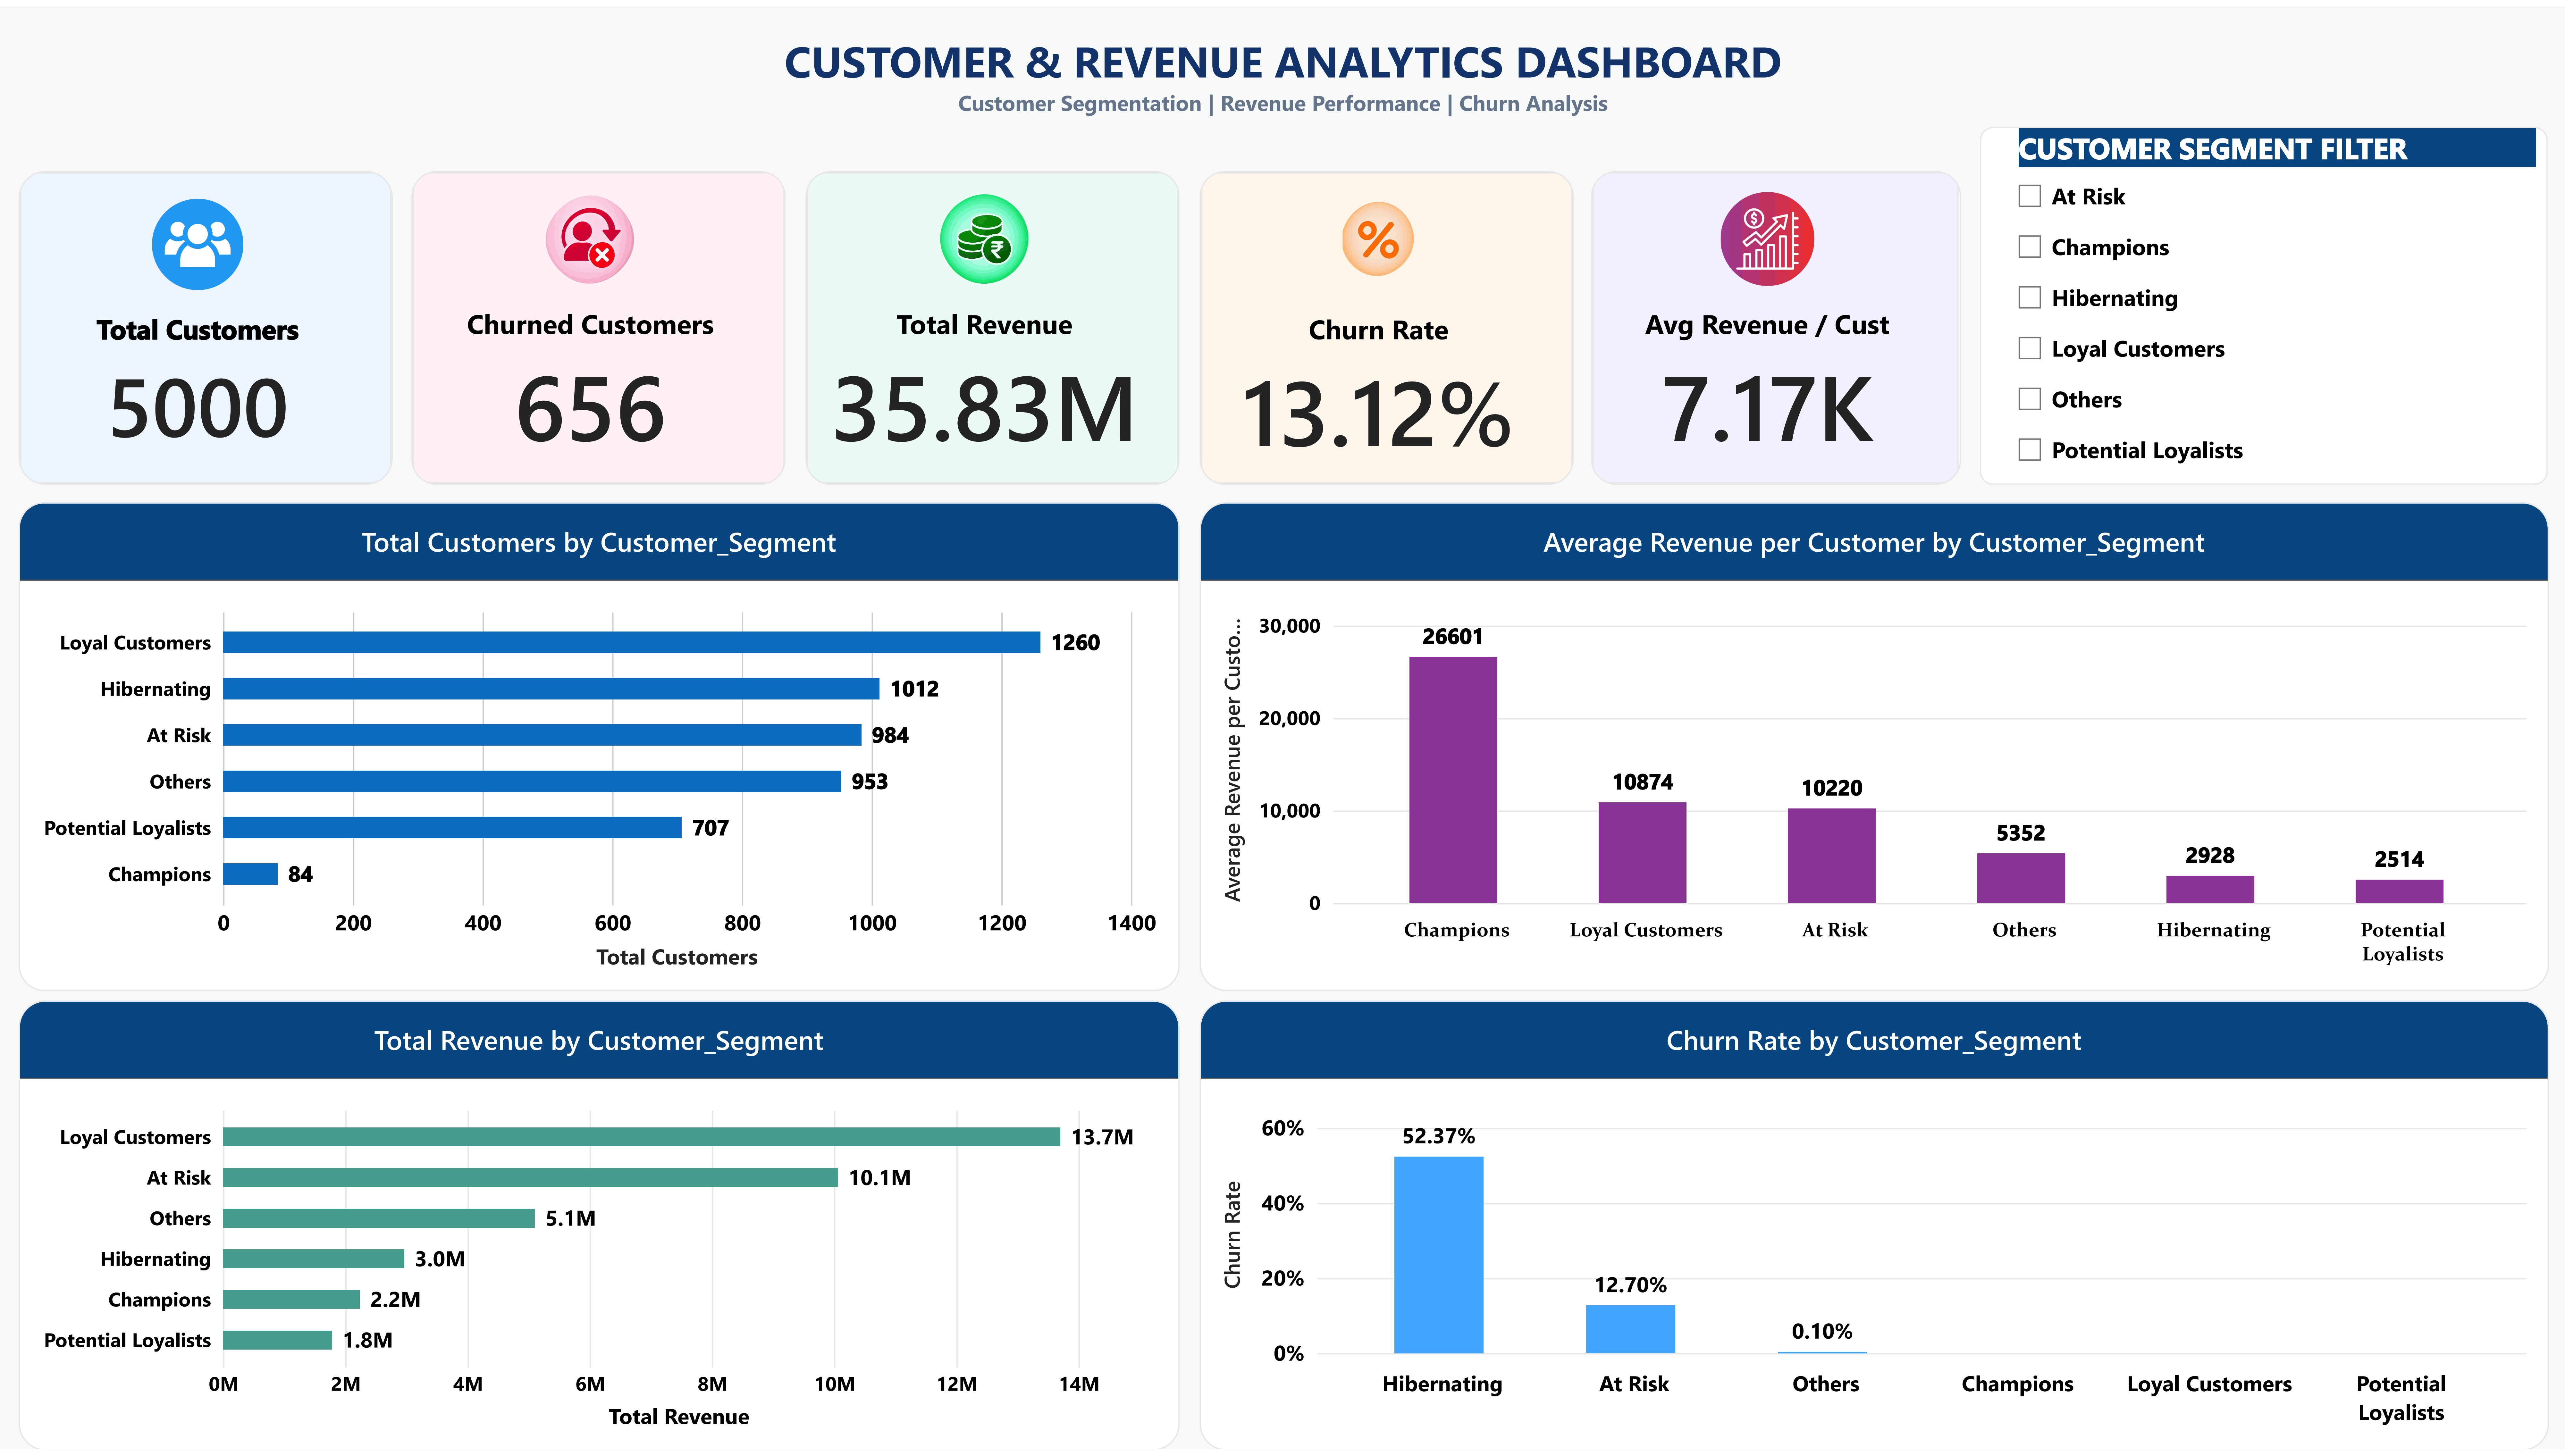

This screenshot's page, from the dashboard's own definition file:
{"tool":"powerbi","page":{"name":"Page 1","canvas":[1920,1080],"ordinal":0},"visuals":[{"type":"cardVisual","fields":{"Data":["rfm_customer_analysis.Total Customers"]},"box":[14.5,123.1,280.5,235.3],"z":0},{"type":"cardVisual","fields":{"Data":["rfm_customer_analysis.Total Revenue"]},"box":[602.6,123.1,280.5,235.3],"z":1000},{"type":"cardVisual","fields":{"Data":["rfm_customer_analysis.Churn Rate"]},"box":[897.6,123.1,280.5,235.3],"z":2000},{"type":"cardVisual","fields":{"Data":["rfm_customer_analysis.Average Revenue per Customer"]},"box":[1190.8,123.1,276.9,235.3],"z":3000},{"type":"cardVisual","fields":{"Data":["rfm_customer_analysis.Churned Customers"]},"box":[307.6,123.1,280.5,235.3],"z":4000},{"type":"clusteredBarChart","fields":{"Category":["rfm_customer_analysis.Customer_Segment"],"Y":["rfm_customer_analysis.Total Customers"]},"box":[14.5,371,868.6,365.6],"z":5000},{"type":"clusteredColumnChart","fields":{"Category":["rfm_customer_analysis.Customer_Segment"],"Y":["rfm_customer_analysis.Churn Rate"]},"box":[897.6,743.8,1009.8,336.6],"z":6000},{"type":"clusteredBarChart","fields":{"Category":["rfm_customer_analysis.Customer_Segment"],"Y":["rfm_customer_analysis.Total Revenue"]},"box":[14.5,743.8,868.6,336.6],"z":7000},{"type":"clusteredColumnChart","fields":{"Category":["rfm_customer_analysis.Customer_Segment"],"Y":["rfm_customer_analysis.Average Revenue per Customer"]},"box":[897.6,371,1009.8,365.6],"z":8000},{"type":"slicer","fields":{"Values":["rfm_customer_analysis.Customer_Segment"]},"box":[1482.1,90.5,425.3,267.8],"z":9000},{"type":"textbox","box":[14.5,18.1,1892.9,86.9],"z":10000}]}

Visuals, with their boxes in screenshot pixels (x1, y1, x2, y2), scaled from the page's 1920x1080 canvas onto the 2565x1456 screenshot:
cardVisual - rfm_customer_analysis.Total Customers: [19, 166, 394, 483]
cardVisual - rfm_customer_analysis.Total Revenue: [805, 166, 1180, 483]
cardVisual - rfm_customer_analysis.Churn Rate: [1199, 166, 1574, 483]
cardVisual - rfm_customer_analysis.Average Revenue per Customer: [1591, 166, 1961, 483]
cardVisual - rfm_customer_analysis.Churned Customers: [411, 166, 786, 483]
clusteredBarChart - rfm_customer_analysis.Customer_Segment x rfm_customer_analysis.Total Customers: [19, 500, 1180, 993]
clusteredColumnChart - rfm_customer_analysis.Customer_Segment x rfm_customer_analysis.Churn Rate: [1199, 1003, 2548, 1456]
clusteredBarChart - rfm_customer_analysis.Customer_Segment x rfm_customer_analysis.Total Revenue: [19, 1003, 1180, 1456]
clusteredColumnChart - rfm_customer_analysis.Customer_Segment x rfm_customer_analysis.Average Revenue per Customer: [1199, 500, 2548, 993]
slicer - rfm_customer_analysis.Customer_Segment: [1980, 122, 2548, 483]
textbox: [19, 24, 2548, 142]
